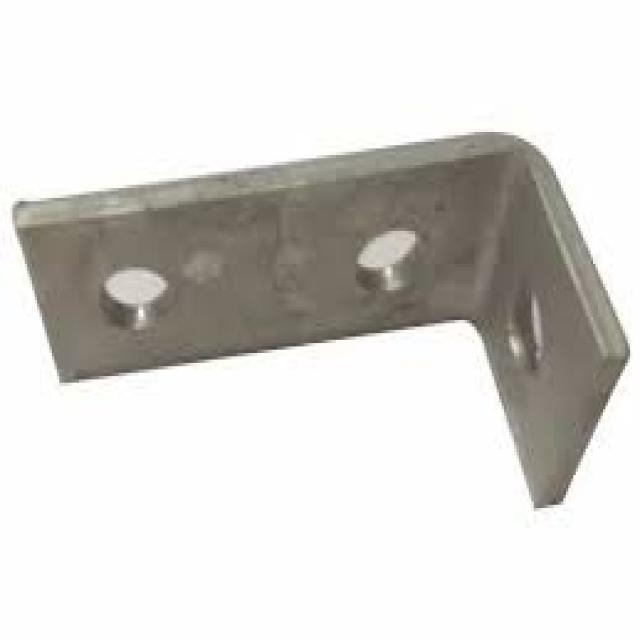holes: (96, 264, 168, 330), (353, 224, 418, 294)
